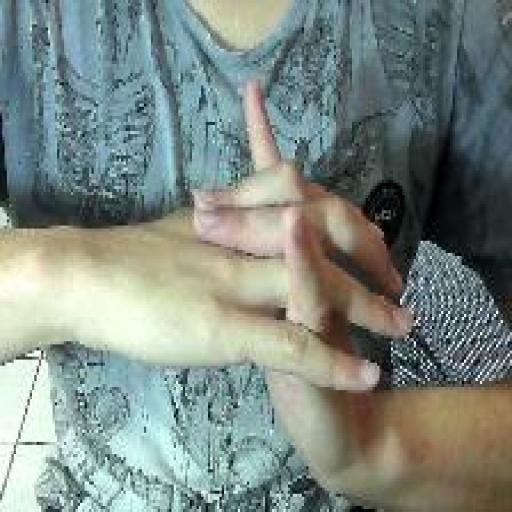Ushi -ox-: (191, 73, 417, 506)
